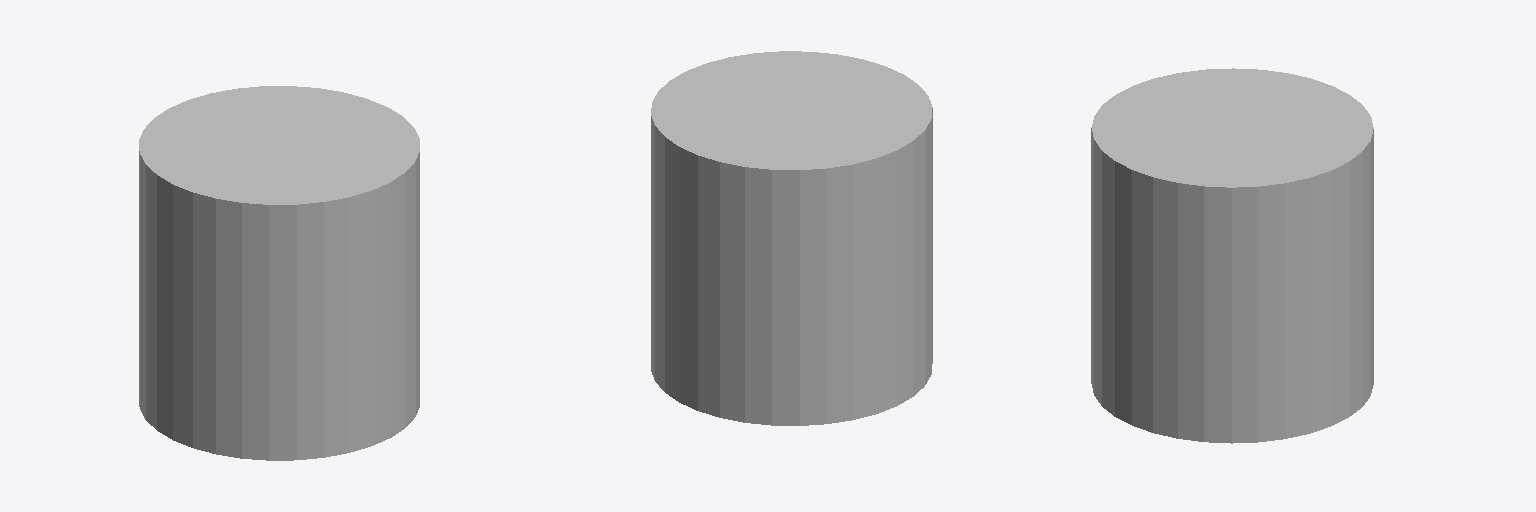
File: beacon3.obj
The picture shows the model from 3 angles: view 1: azimuth 30°, elevation 25°; view 2: azimuth 150°, elevation 25°; view 3: azimuth 270°, elevation 25°; orthographic projection.
Visible parts, largest first — view 1: Beacon3_Cylinder.005; view 2: Beacon3_Cylinder.005; view 3: Beacon3_Cylinder.005.
Part boxes in pixels (x1,y1,x2,y2): Beacon3_Cylinder.005: (139, 86, 419, 460); Beacon3_Cylinder.005: (651, 51, 932, 425); Beacon3_Cylinder.005: (1091, 68, 1373, 443).
Bounding box in the file's own units: 0.0015 × 0.0015 × 0.002.